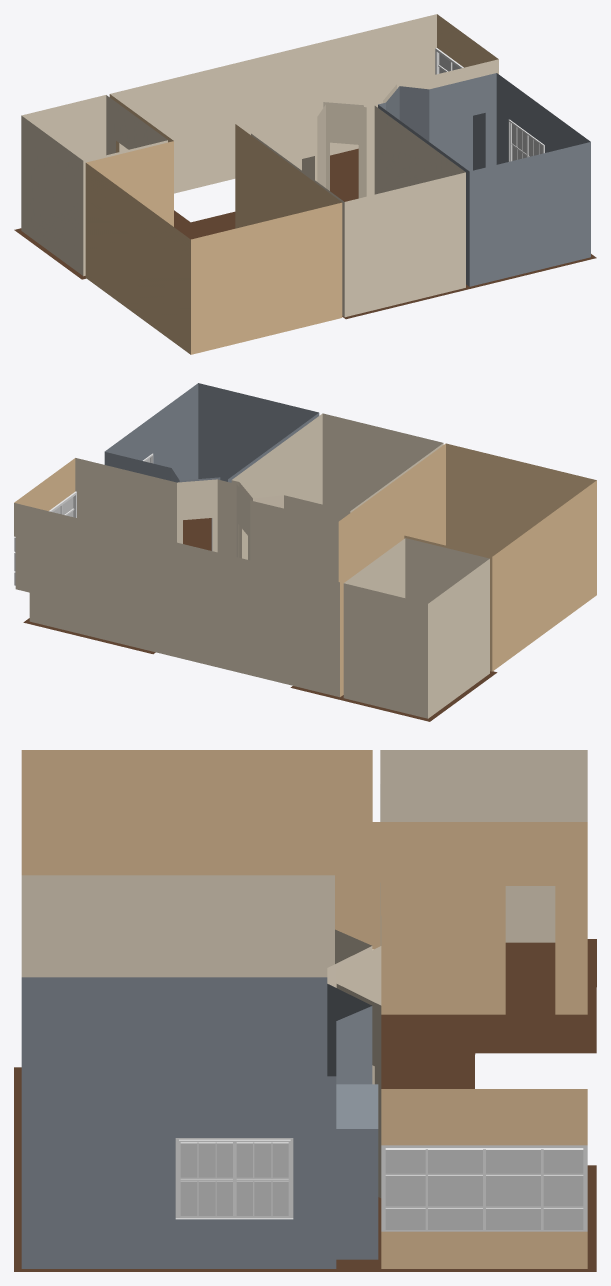
The model's file is Walls 2nd floor.fbx.
3 renders of one model, top to bottom at view 1: azimuth 30°, elevation 25°; view 2: azimuth 150°, elevation 25°; view 3: azimuth 270°, elevation 25°, orthographic. The views are drawn at different scales.
Parts seen in each view (by area): view 1: Cube.003, Cube.018, Cube.019, Cube.020; view 2: Cube.003, Cube.020, Cube.019, Cube.018; view 3: Cube.003, Cube.018, Cube.019, Cube.020.
Boxes of the visible parts, x1,y1,x2,y2 form: Cube.003: (14,14,596,354); Cube.018: (378,73,590,286); Cube.019: (251,104,465,317); Cube.020: (21,95,167,276); Cube.003: (14,443,596,721); Cube.020: (343,538,489,718); Cube.019: (231,413,443,559); Cube.018: (104,383,319,550); Cube.003: (14,750,596,1271); Cube.018: (21,977,378,1268); Cube.019: (21,875,373,1084); Cube.020: (380,750,587,942).
Size of the model in its own units: 1228 by 321 by 881.
